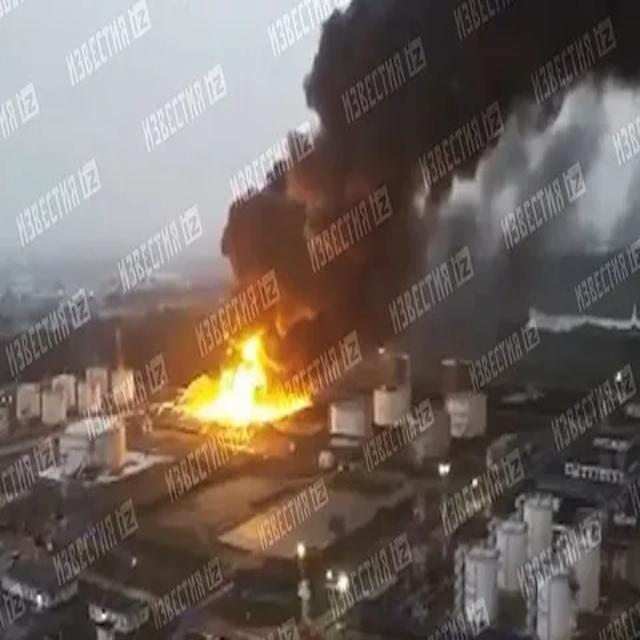Smoke: (220, 0, 640, 390)
